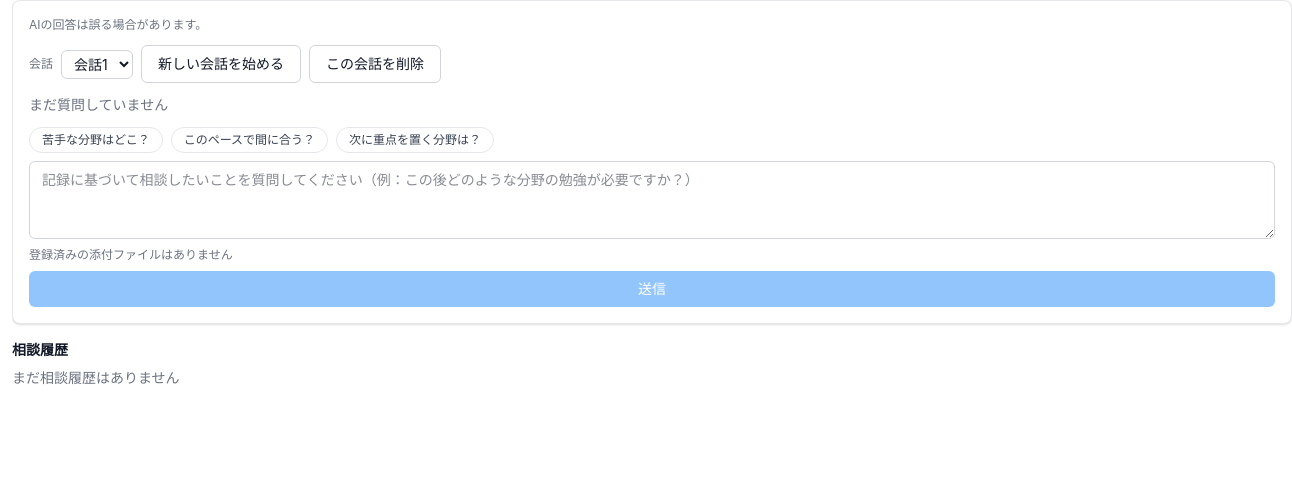
Test: GoalConsultationTab › 根拠が無い回答は根拠欄を出さない
The image size is (1292, 502).
In the text box labelled "記録に基づいて相談したいことを質問してください（例：この後どのような分野の勉強が必要ですか？）": {"x": 652, "y": 200} 29,161 -> 1275,239, type "根拠のない質問"
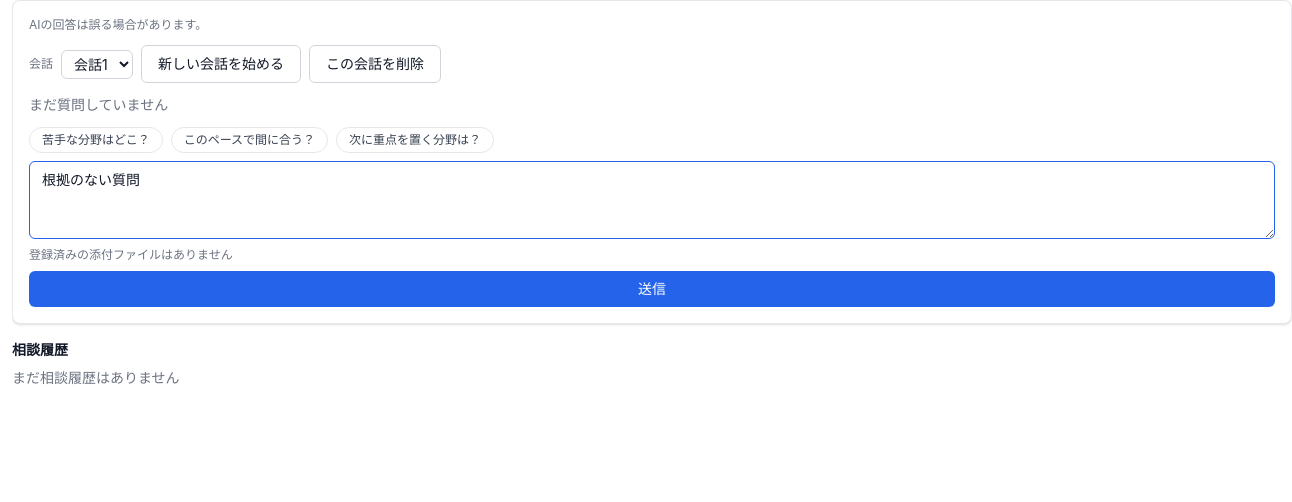
Click the button "送信": {"x": 652, "y": 289} 29,271 -> 1275,307
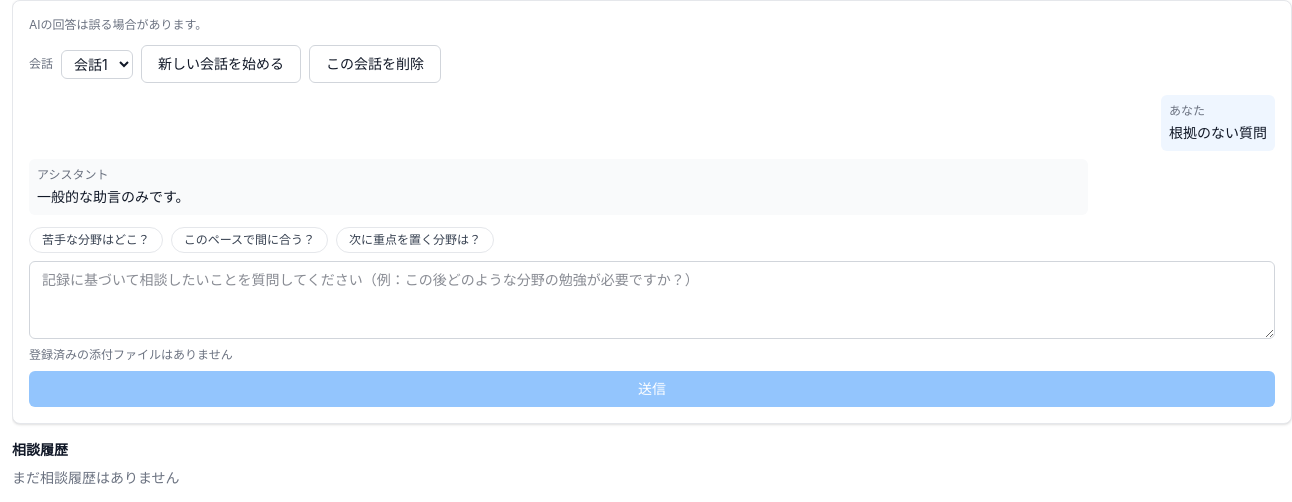
Check: the text "一般的な助言のみです。" is shown, box 37,188 -> 190,205
